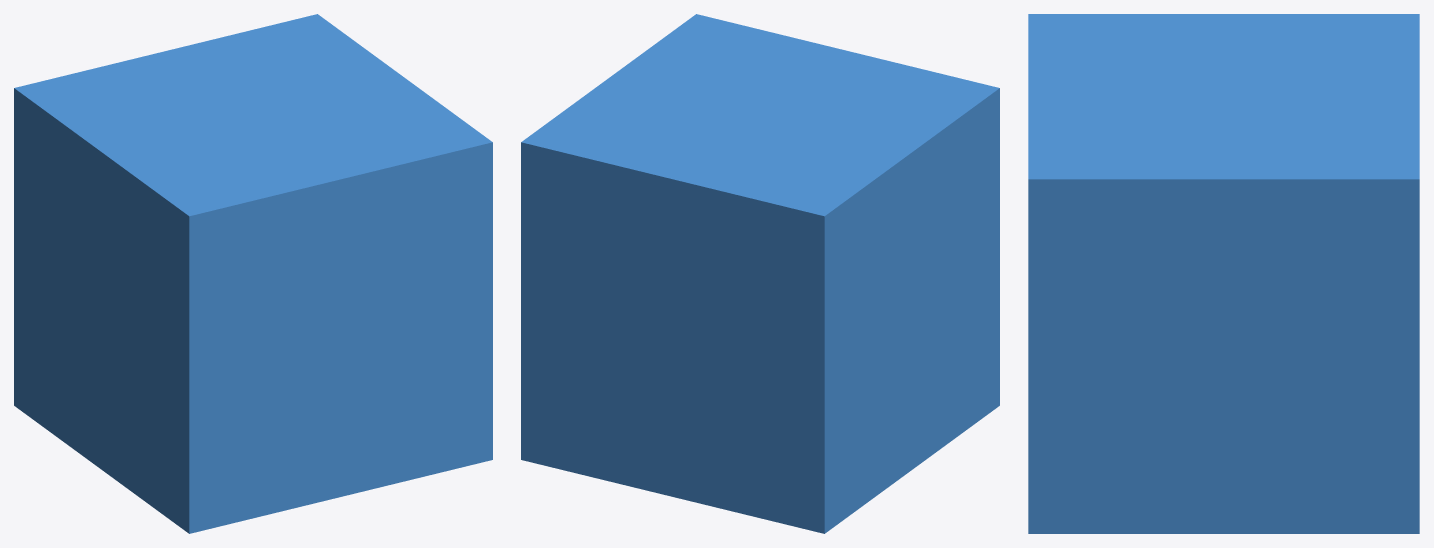
The model's file is TestPlayer.fbx.
3 views of the same model, side by side, from view 1: azimuth 30°, elevation 25°; view 2: azimuth 150°, elevation 25°; view 3: azimuth 270°, elevation 25° (orthographic). The views are drawn at different scales.
Visible parts, largest first — view 1: polySurface6; view 2: polySurface6; view 3: polySurface6.
Boxes of the visible parts, x1,y1,x2,y2 form: polySurface6: (14,14,492,533); polySurface6: (521,14,999,533); polySurface6: (1028,14,1419,533).
Bounding box in the file's own units: 1.25 × 1.25 × 1.25.
